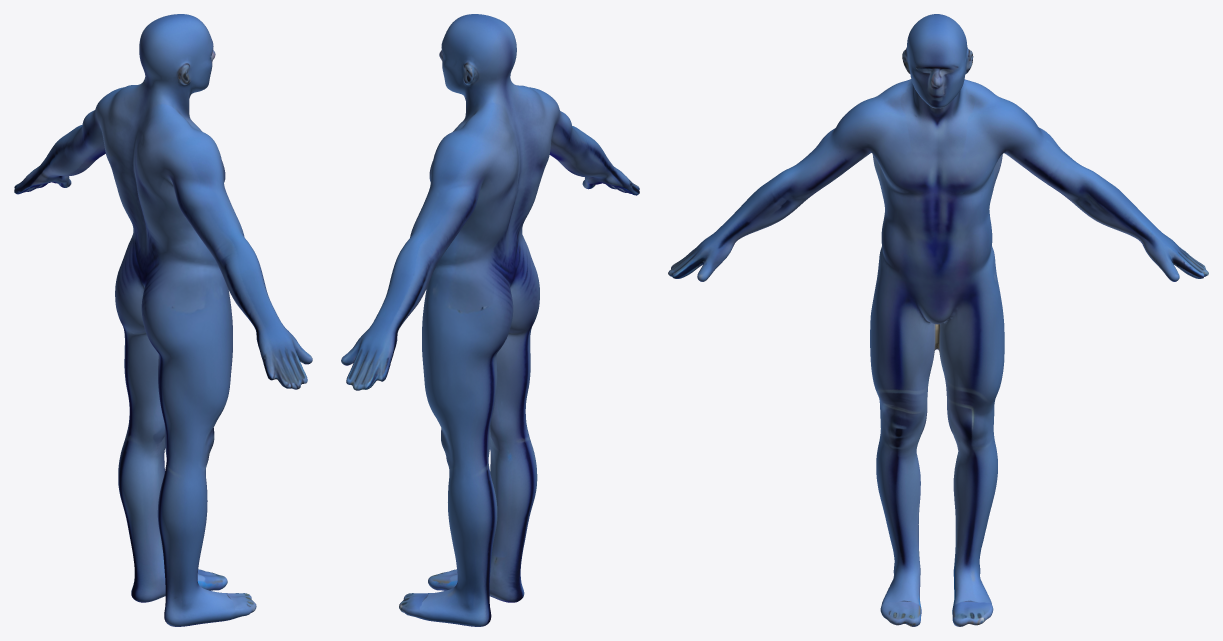
The picture shows the model from 3 angles, left to right: view 1: azimuth 30°, elevation 25°; view 2: azimuth 150°, elevation 25°; view 3: azimuth 270°, elevation 25°; orthographic projection. The views are drawn at different scales.
Visible parts, largest first — view 1: tripo_node_48068772-e104-4830-93b7-b6ad44ac3b28; view 2: tripo_node_48068772-e104-4830-93b7-b6ad44ac3b28; view 3: tripo_node_48068772-e104-4830-93b7-b6ad44ac3b28.
Boxes of the visible parts, <box> form: tripo_node_48068772-e104-4830-93b7-b6ad44ac3b28: <box>14,14,312,626</box>; tripo_node_48068772-e104-4830-93b7-b6ad44ac3b28: <box>341,14,639,626</box>; tripo_node_48068772-e104-4830-93b7-b6ad44ac3b28: <box>668,14,1208,626</box>.
Size of the model in its own units: 0.1902 by 0.9482 by 0.8001.
1 material, 1 textured.
